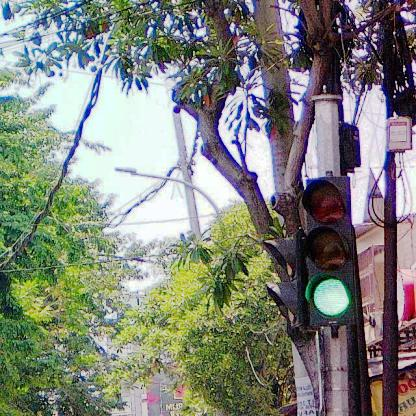Traffic Light -Green-: (306, 176, 353, 327)
